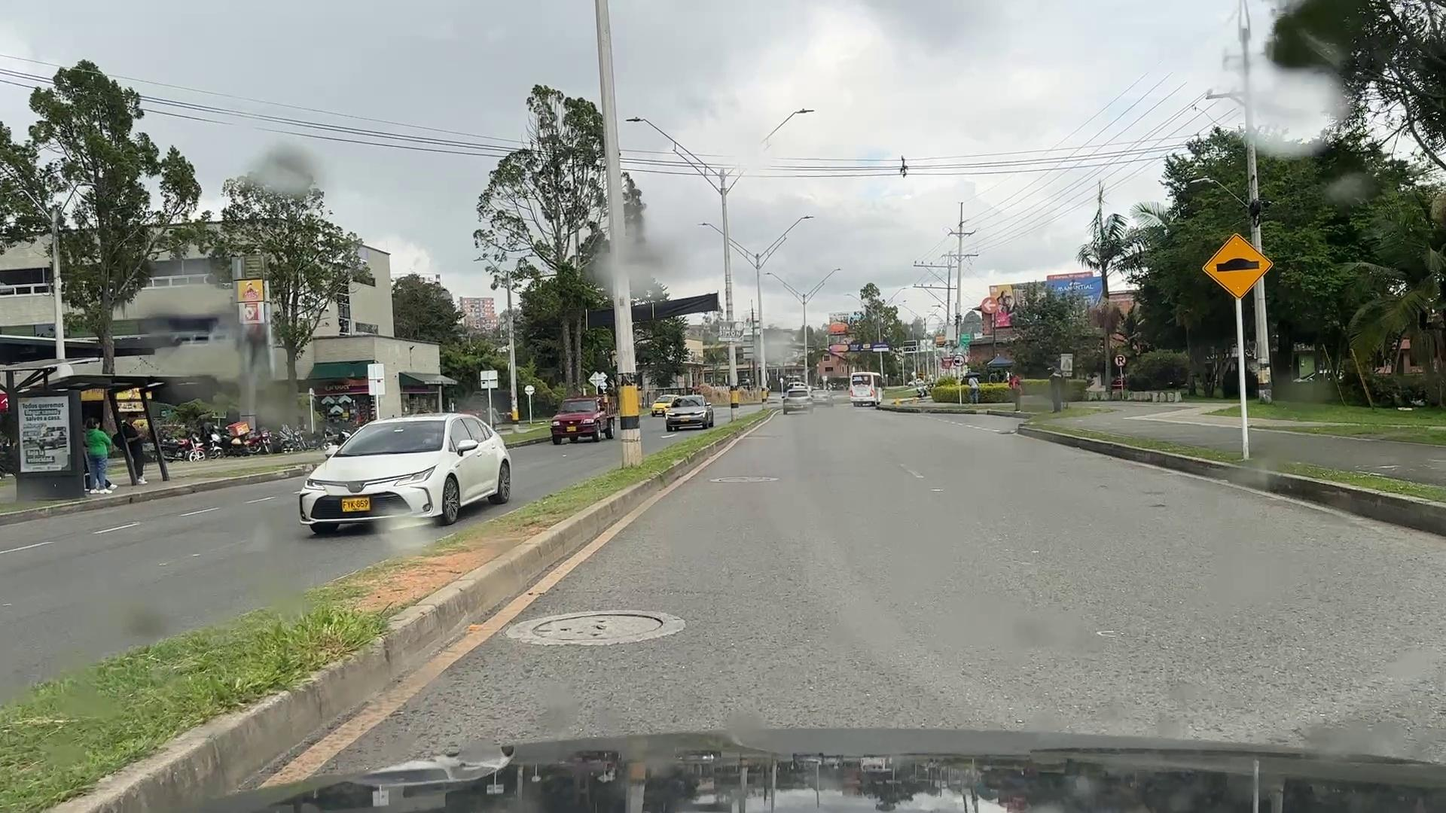bache: (1151, 505, 1165, 507)
registro: (533, 614, 662, 640), (719, 477, 771, 481)
